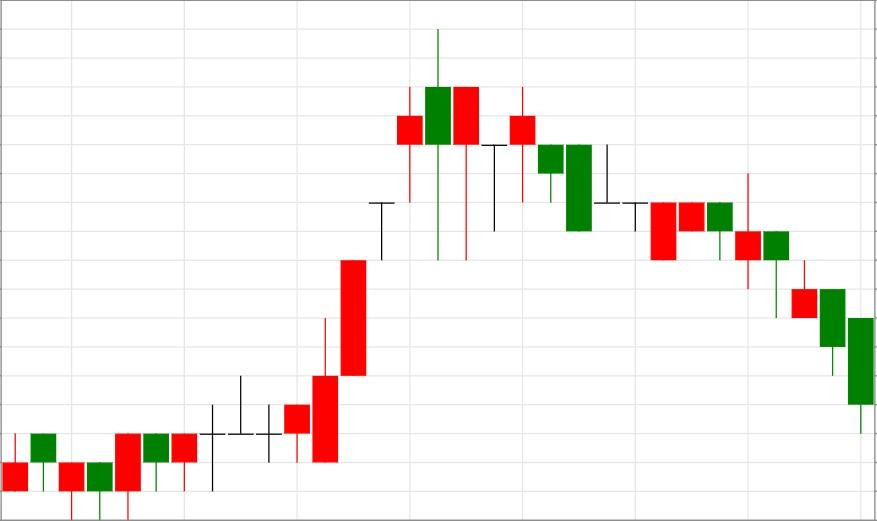hanging_man_fall: (311, 29, 480, 463)
